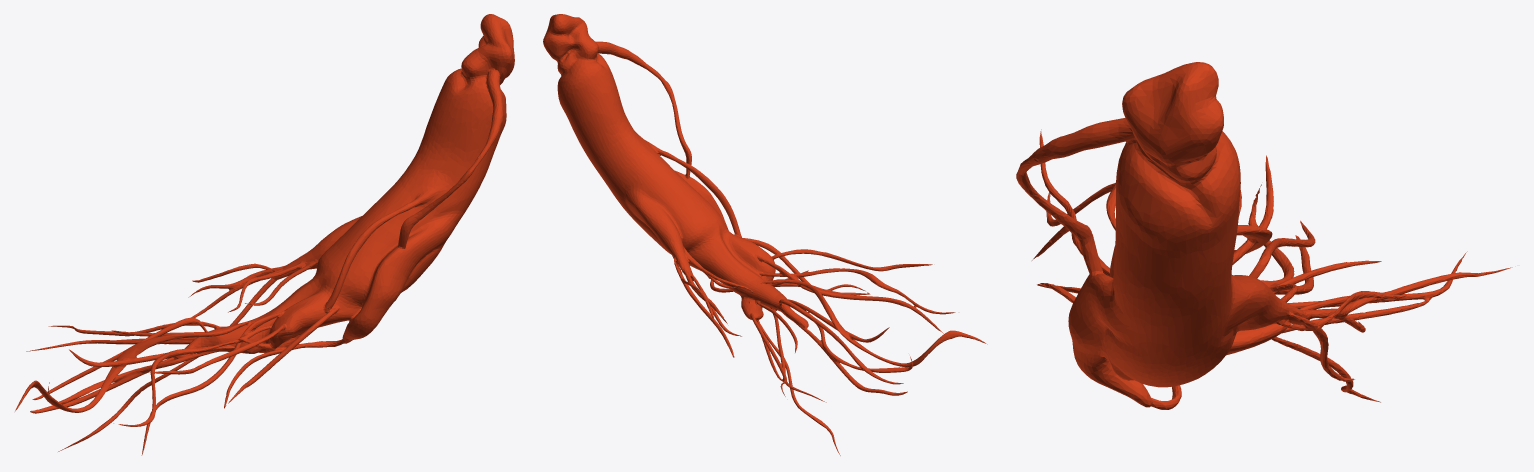
Rendered from 5. Temulawak.fbx.
3 renders of one model, left to right at view 1: azimuth 30°, elevation 25°; view 2: azimuth 150°, elevation 25°; view 3: azimuth 270°, elevation 25°, orthographic. The views are drawn at different scales.
Visible parts, largest first — view 1: 3ESRFSAE; view 2: 3ESRFSAE; view 3: 3ESRFSAE.
Part boxes in pixels (x1,y1,x2,y2): 3ESRFSAE: [15, 14, 514, 455]; 3ESRFSAE: [543, 14, 987, 455]; 3ESRFSAE: [1016, 62, 1512, 409].
Bounding box in the file's own units: 628 × 456 × 315.
